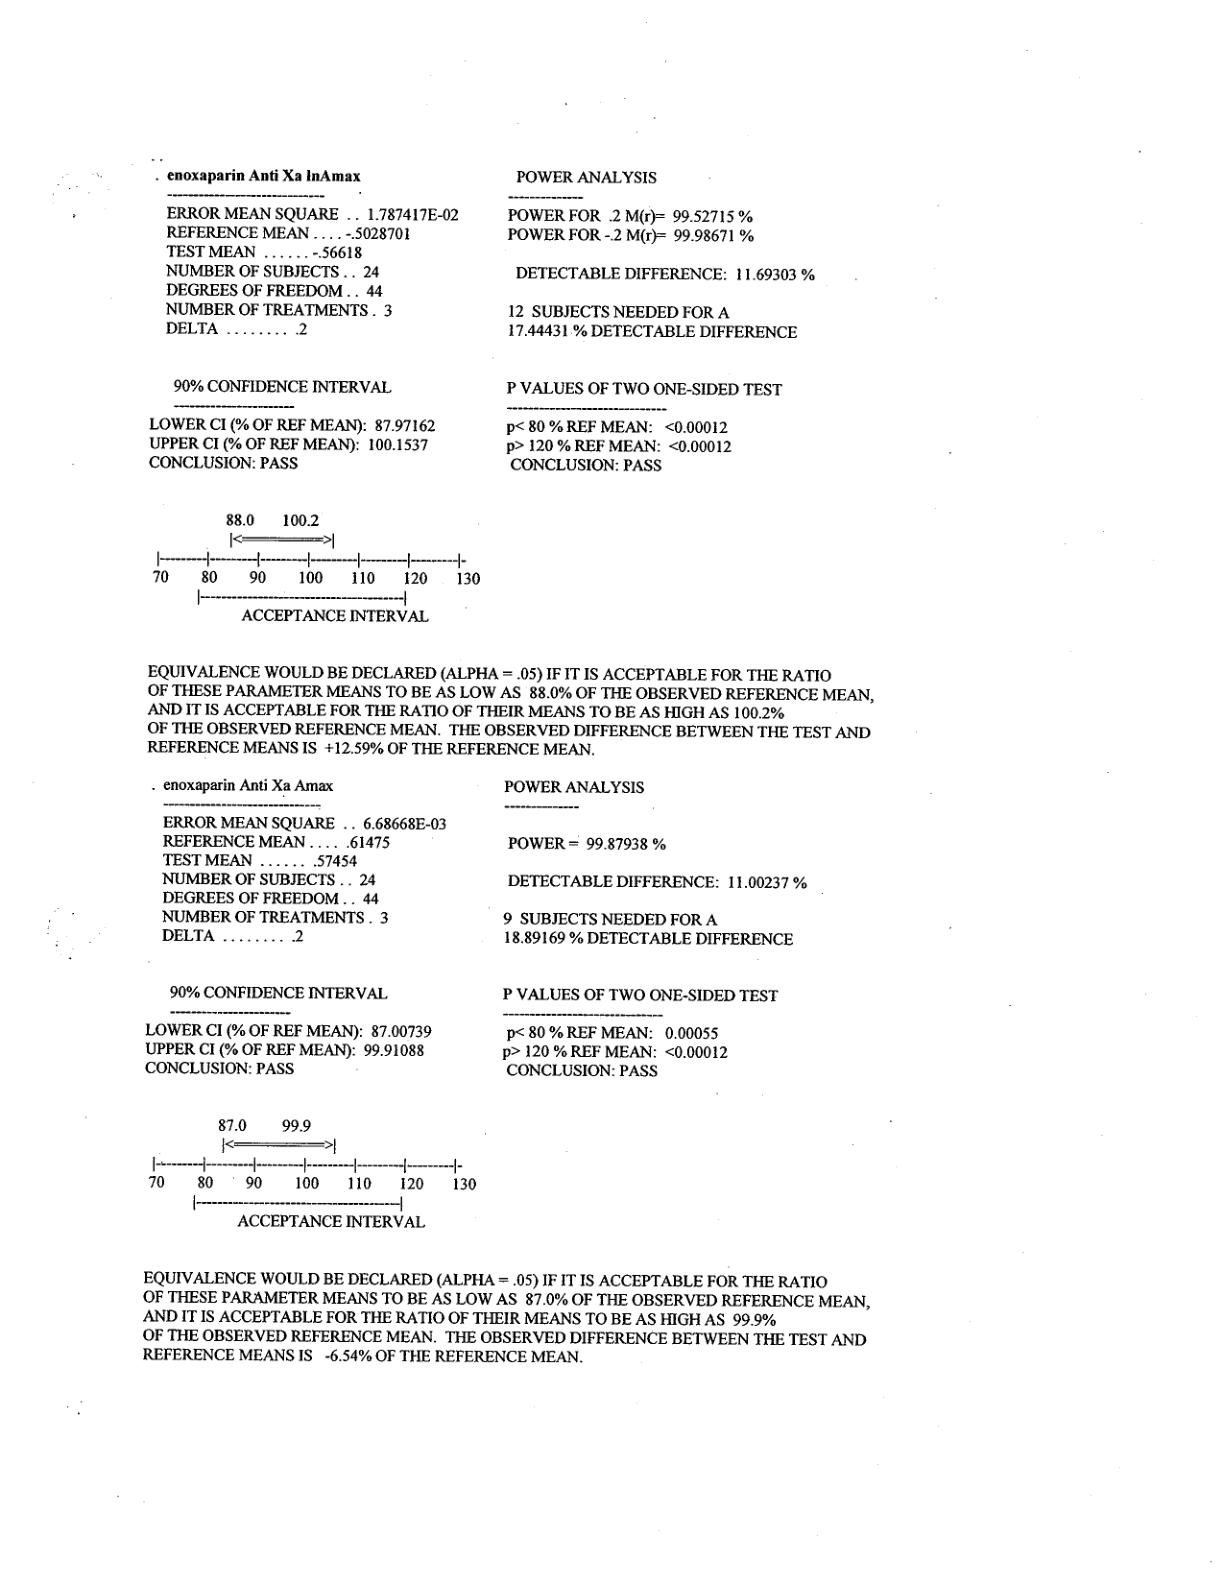nolines: (147, 161, 820, 477), (144, 778, 818, 1086)
